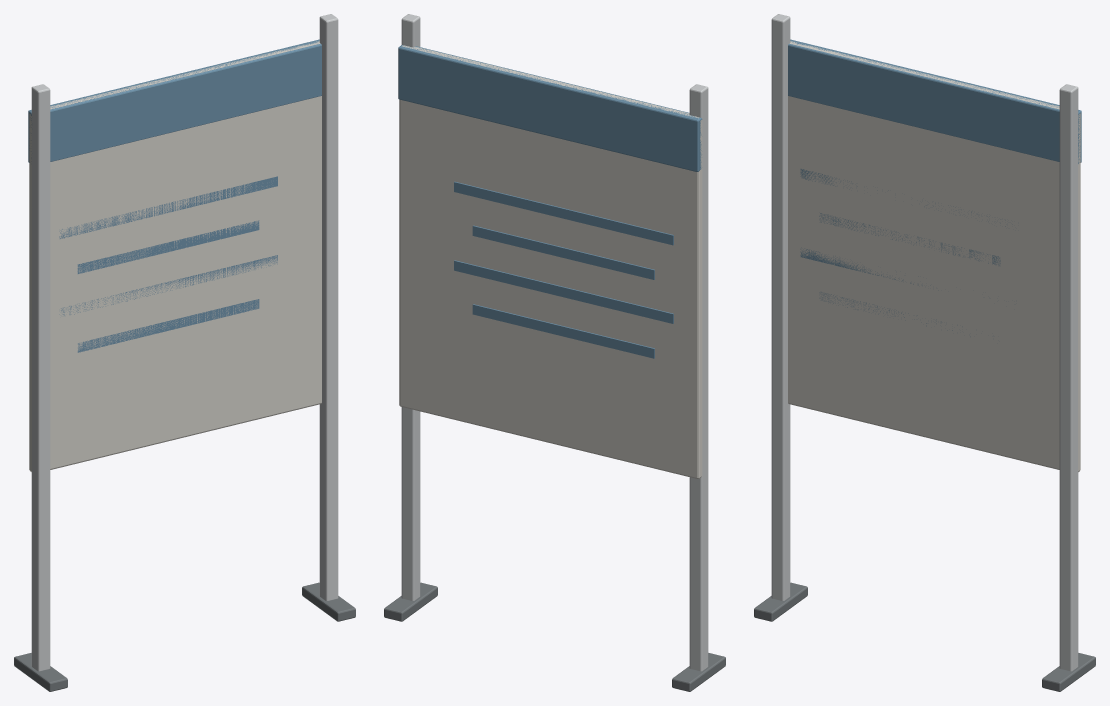
File: info_stand.glb
The picture shows the model from 3 angles, left to right: view 1: azimuth 30°, elevation 25°; view 2: azimuth 150°, elevation 25°; view 3: azimuth 330°, elevation 25°; orthographic projection.
Visible parts, largest first — view 1: info_stand; view 2: info_stand; view 3: info_stand.
Part boxes in pixels (x1,y1,x2,y2): info_stand: (14, 14, 355, 691); info_stand: (384, 14, 725, 691); info_stand: (754, 14, 1095, 691).
Bounding box in the file's own units: 0.98 × 1.8 × 0.2.
